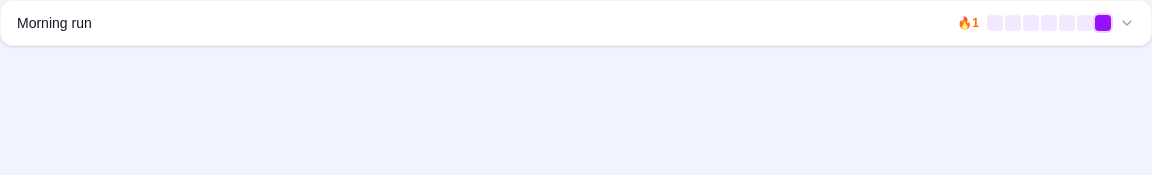
HabitCard › shows mood pill when expanded with mood data
Click the button named "развернуть": click(1127, 23) [1119,15,1135,31]
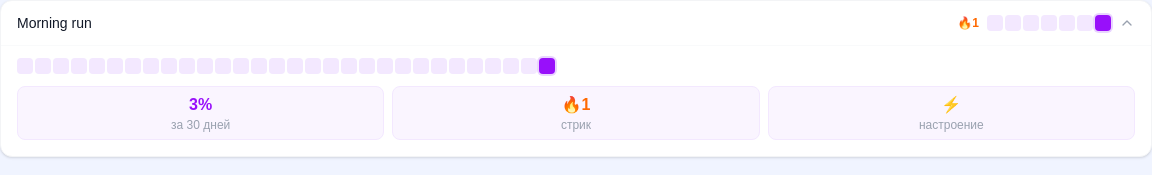
Expected: the element with test id "stat-mood" is shown, [768,86,1135,140]
